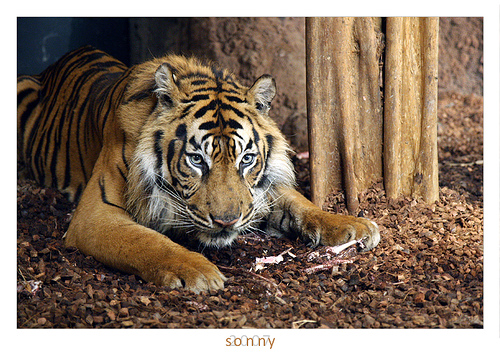Tigre: (48, 44, 371, 311)
